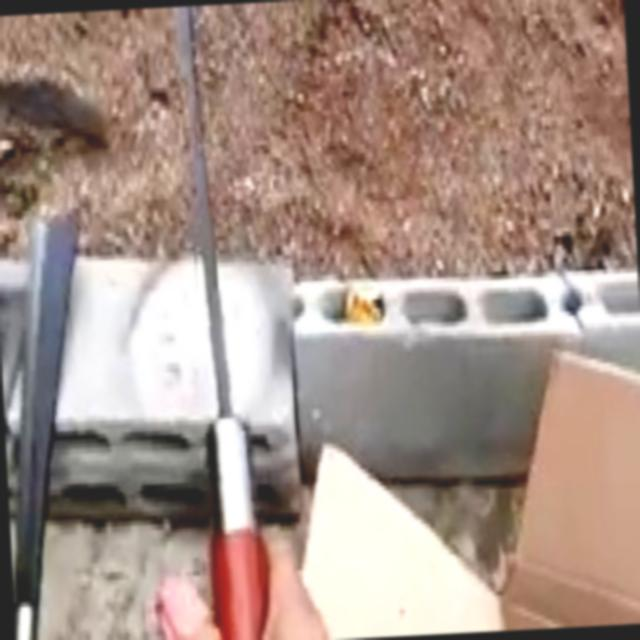eto: (177, 12, 260, 640)
